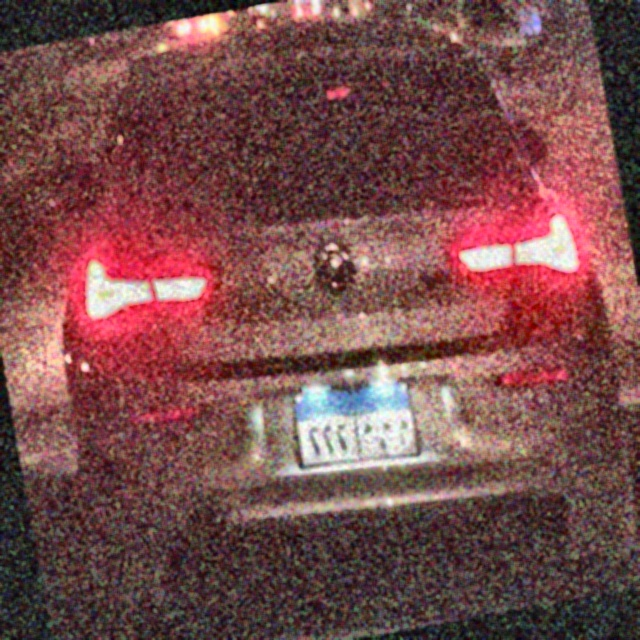License Plate: (286, 368, 423, 477)
